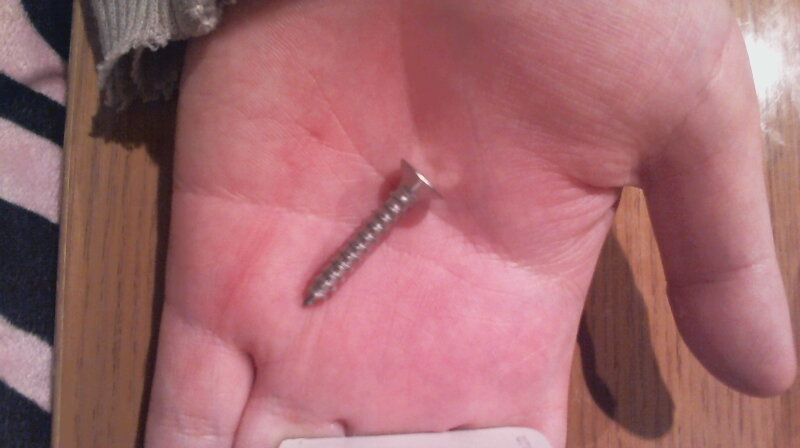S001: (296, 154, 448, 309)
